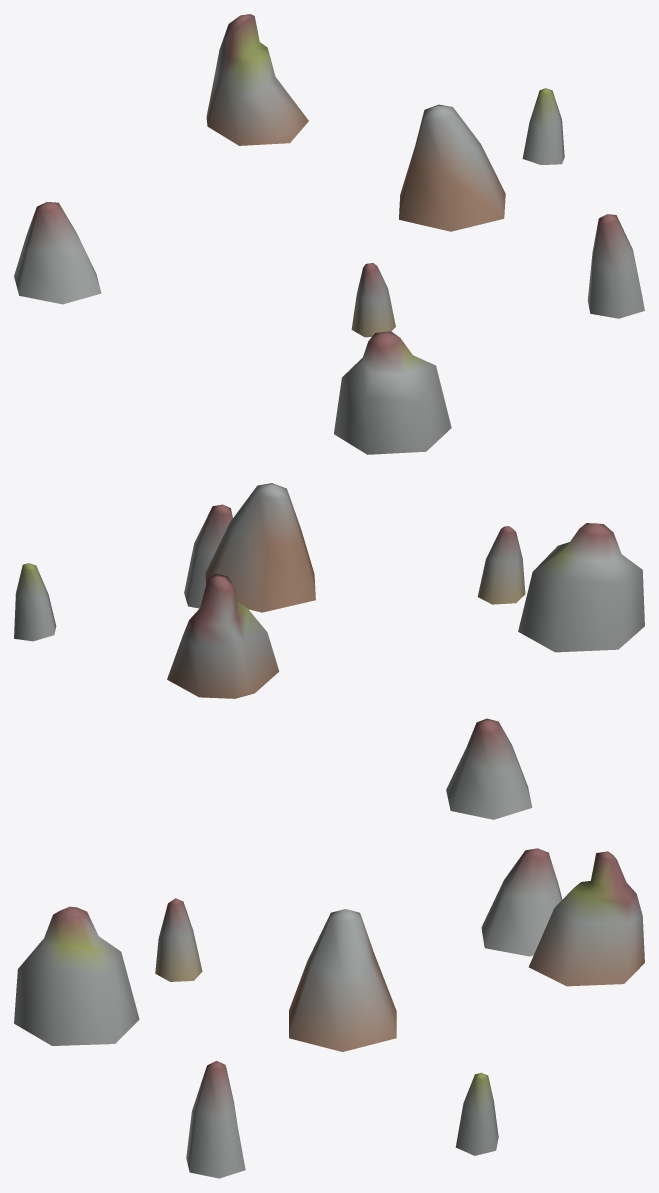
3 views of the same model, one above another, from view 1: azimuth 30°, elevation 25°; view 2: azimuth 150°, elevation 25°; view 3: azimuth 270°, elevation 25° (orthographic). The views are drawn at different scales.
Visible parts, largest first — view 1: G:\FFXIV-MapTools\exports\n4f2\bg\ex3\01_nvt_n4\fld\n4f2\bgp; view 2: G:\FFXIV-MapTools\exports\n4f2\bg\ex3\01_nvt_n4\fld\n4f2\bgp; view 3: G:\FFXIV-MapTools\exports\n4f2\bg\ex3\01_nvt_n4\fld\n4f2\bgp.
Part boxes in pixels (x1,y1,x2,y2): G:\FFXIV-MapTools\exports\n4f2\bg\ex3\01_nvt_n4\fld\n4f2\bgp: (14,14,644,454); G:\FFXIV-MapTools\exports\n4f2\bg\ex3\01_nvt_n4\fld\n4f2\bgp: (14,483,644,819); G:\FFXIV-MapTools\exports\n4f2\bg\ex3\01_nvt_n4\fld\n4f2\bgp: (14,848,644,1178).
Bounding box in the file's own units: 6.78 × 2.58 × 6.68.
